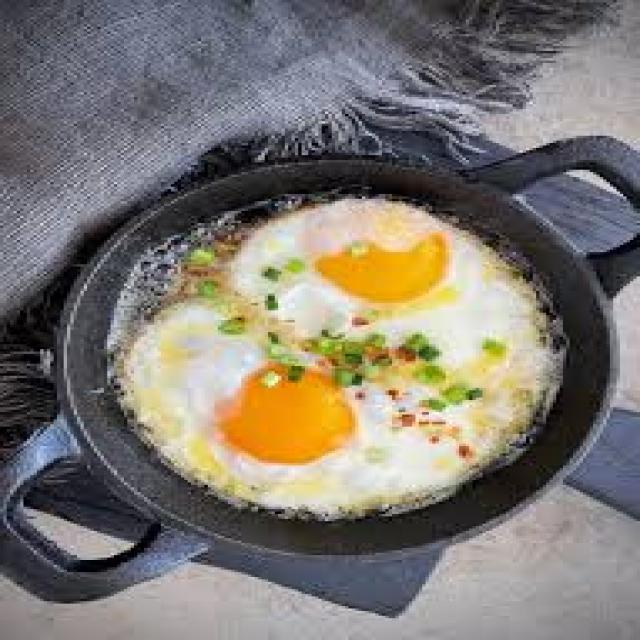Egg: (119, 198, 558, 518), (232, 199, 555, 492), (128, 338, 499, 518)
